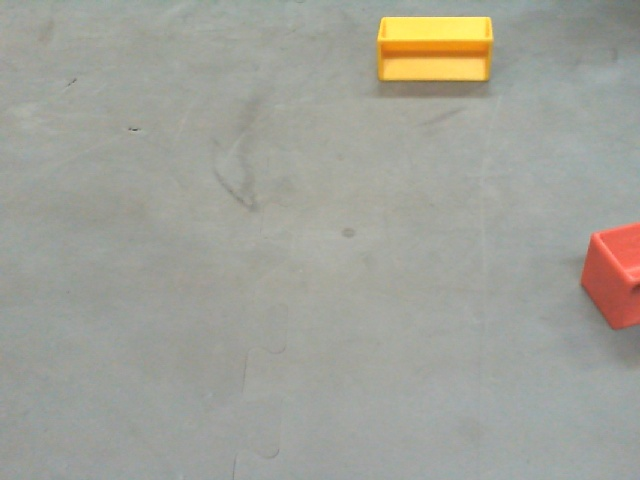RedSample: (581, 224, 640, 327)
YellowSample: (374, 16, 494, 82)
